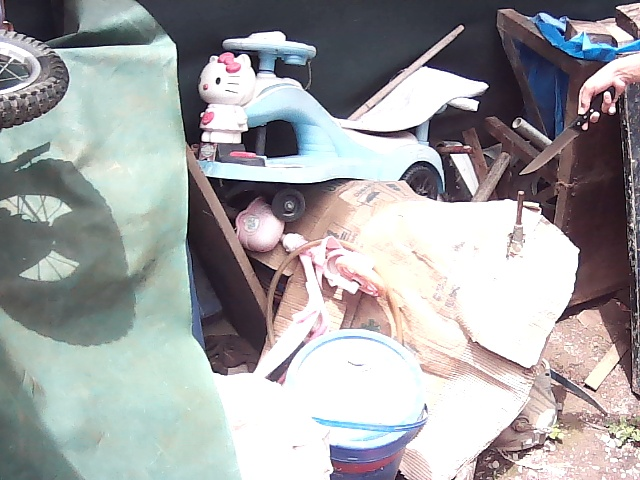cuchillo: (516, 112, 592, 182)
